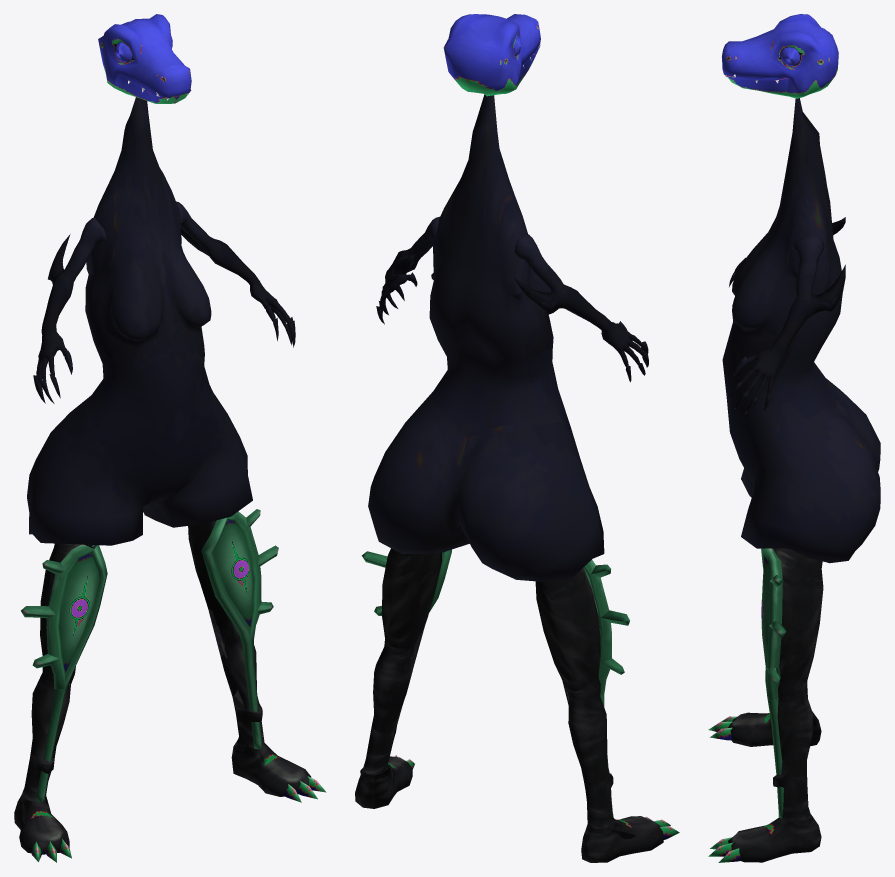
File: monster.obj
The picture shows the model from 3 angles, left to right: view 1: azimuth 30°, elevation 25°; view 2: azimuth 150°, elevation 25°; view 3: azimuth 270°, elevation 25°; orthographic projection. The views are drawn at different scales.
Parts seen in each view (by area): view 1: body-3_evelynn_demon_shade.blend.obj.001_body-3_evelynn_demon_sh; view 2: body-3_evelynn_demon_shade.blend.obj.001_body-3_evelynn_demon_sh; view 3: body-3_evelynn_demon_shade.blend.obj.001_body-3_evelynn_demon_sh.
Boxes of the visible parts, bbox=[...] form: body-3_evelynn_demon_shade.blend.obj.001_body-3_evelynn_demon_sh: bbox=[14, 14, 326, 862]; body-3_evelynn_demon_shade.blend.obj.001_body-3_evelynn_demon_sh: bbox=[355, 14, 679, 862]; body-3_evelynn_demon_shade.blend.obj.001_body-3_evelynn_demon_sh: bbox=[708, 14, 880, 862].
Bounding box in the file's own units: 2.82 × 7.28 × 1.47.
6 materials, 6 textured.
